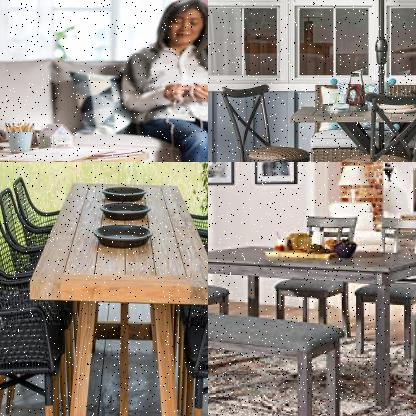table: (28, 177, 207, 415), (208, 241, 415, 412), (283, 99, 415, 161)
